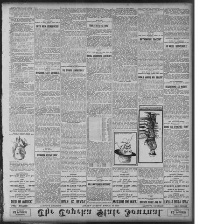news_paper: (0, 0, 193, 223)
